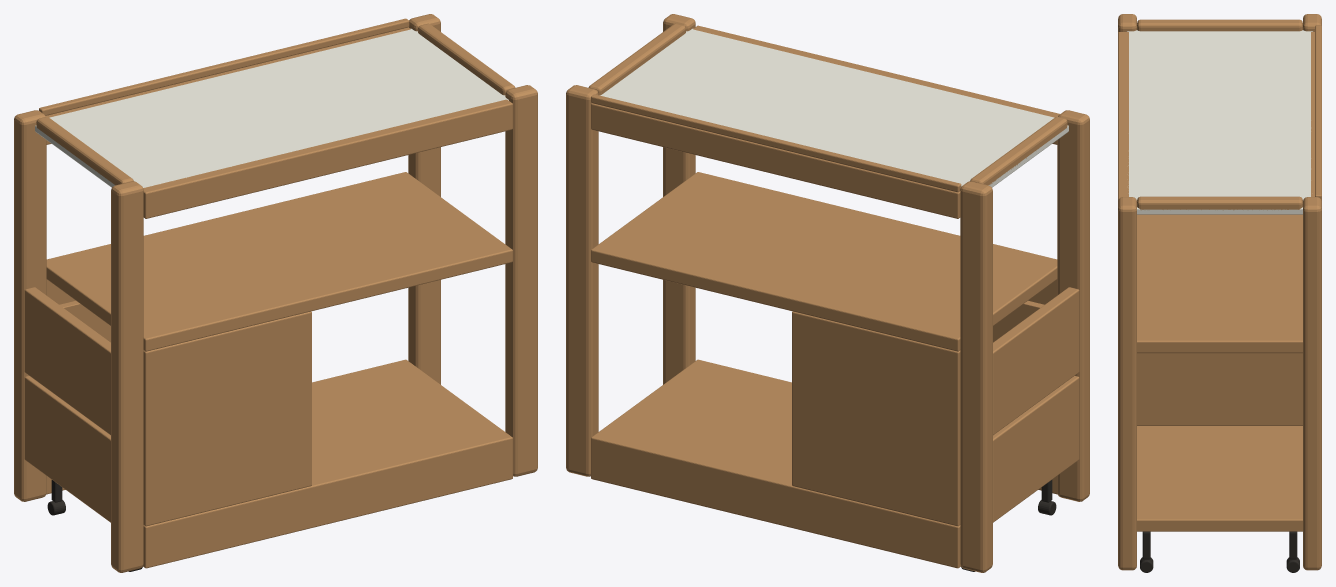
Rendered from side-table-v1.glb.
The picture shows the model from 3 angles, left to right: view 1: azimuth 30°, elevation 25°; view 2: azimuth 150°, elevation 25°; view 3: azimuth 270°, elevation 25°; orthographic projection. The views are drawn at different scales.
Visible parts, largest first — view 1: shelf, stone, drawer-enclosure-1, bottom, post--1-1, post-1-1, top-apron-1, base-rail-1, post--1--1, upper-front, lower-front, post-1--1 (+5 smaller); view 2: shelf, stone, drawer-enclosure--1, bottom, post--1--1, base-rail--1, post-1--1, top-apron--1, post--1-1, upper-front, lower-front, post-1-1 (+5 smaller); view 3: stone, shelf, bottom, drawer-divider, post-1--1, post-1-1, end-rail-1, end-rail--1, top-apron-1, back-lip, top-apron--1, post--1-1 (+1 smaller).
Boxes of the visible parts, left/top/right/bottom form: shelf: left=46, top=172, right=512, bottom=351; stone: left=35, top=28, right=508, bottom=187; drawer-enclosure-1: left=143, top=311, right=311, bottom=526; bottom: left=143, top=359, right=512, bottom=538; post--1-1: left=111, top=181, right=143, bottom=572; post-1-1: left=505, top=85, right=537, bottom=476; top-apron-1: left=143, top=99, right=512, bottom=218; base-rail-1: left=143, top=445, right=512, bottom=568; post--1--1: left=14, top=110, right=46, bottom=501; upper-front: left=24, top=287, right=110, bottom=435; lower-front: left=24, top=376, right=110, bottom=522; post-1--1: left=408, top=14, right=440, bottom=384; shelf: left=591, top=172, right=1057, bottom=351; stone: left=600, top=28, right=1068, bottom=187; drawer-enclosure--1: left=792, top=311, right=960, bottom=526; bottom: left=591, top=359, right=960, bottom=538; post--1--1: left=960, top=181, right=992, bottom=572; base-rail--1: left=591, top=445, right=960, bottom=568; post-1--1: left=566, top=85, right=598, bottom=476; top-apron--1: left=591, top=103, right=960, bottom=218; post--1-1: left=1057, top=110, right=1089, bottom=501; upper-front: left=993, top=287, right=1079, bottom=435; lower-front: left=993, top=376, right=1079, bottom=522; post-1-1: left=663, top=14, right=695, bottom=384; stone: left=1127, top=30, right=1312, bottom=214; shelf: left=1137, top=214, right=1302, bottom=353; bottom: left=1137, top=426, right=1302, bottom=531; drawer-divider: left=1137, top=353, right=1302, bottom=425; post-1--1: left=1303, top=197, right=1321, bottom=570; post-1-1: left=1118, top=197, right=1136, bottom=570; end-rail-1: left=1137, top=196, right=1302, bottom=210; end-rail--1: left=1137, top=19, right=1302, bottom=31; top-apron-1: left=1118, top=32, right=1128, bottom=201; back-lip: left=1315, top=25, right=1321, bottom=200; top-apron--1: left=1311, top=32, right=1321, bottom=201; post--1-1: left=1118, top=14, right=1136, bottom=32.
Bounding box in the file's own units: 0.68 × 0.612 × 0.3.
